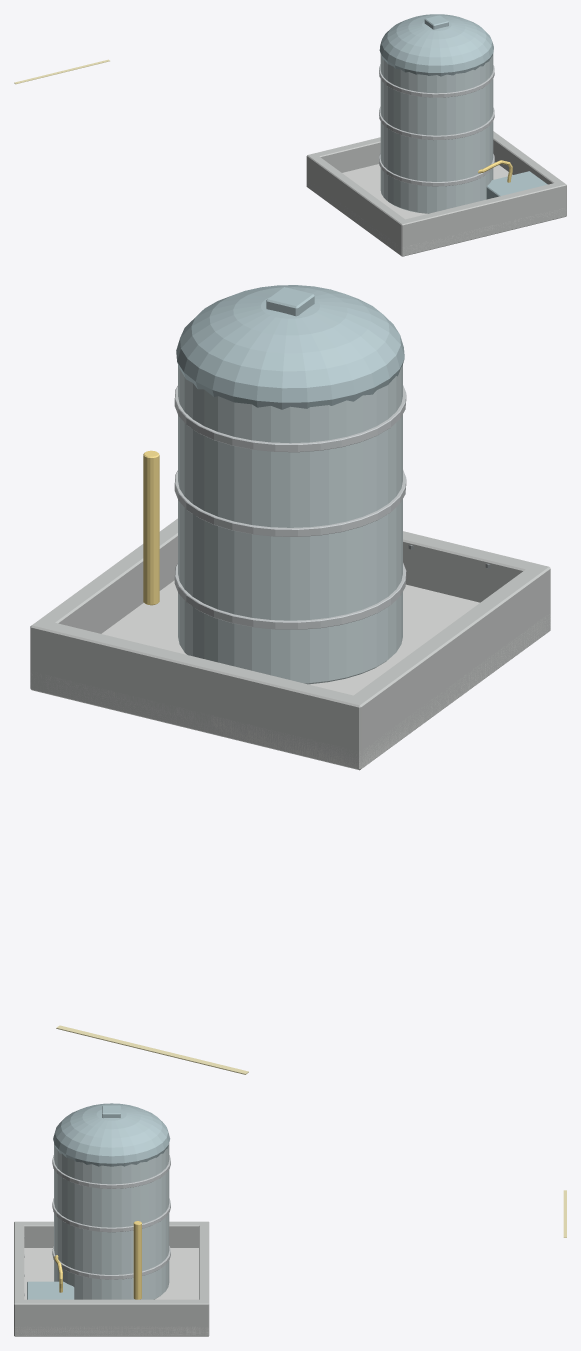
3 renders of one model, top to bottom at view 1: azimuth 30°, elevation 25°; view 2: azimuth 150°, elevation 25°; view 3: azimuth 270°, elevation 25°, orthographic. The views are drawn at different scales.
Visible parts, largest first — view 1: render-batch-4, render-batch-2, render-batch-1, render-batch-3, render-batch-5; view 2: render-batch-4, render-batch-2, render-batch-1, render-batch-5, render-batch-3, render-batch-7; view 3: render-batch-4, render-batch-2, render-batch-1, render-batch-5, render-batch-3, render-batch-7.
Part boxes in pixels (x1,y1,x2,y2): render-batch-4: (380, 54, 493, 213); render-batch-2: (306, 131, 566, 256); render-batch-1: (379, 14, 547, 199); render-batch-3: (379, 64, 494, 186); render-batch-5: (307, 162, 562, 253); render-batch-4: (178, 365, 402, 684); render-batch-2: (30, 518, 550, 770); render-batch-1: (176, 285, 404, 409); render-batch-5: (30, 580, 550, 768); render-batch-3: (174, 385, 406, 629); render-batch-7: (143, 450, 159, 605); render-batch-4: (54, 1143, 169, 1299); render-batch-2: (14, 1221, 209, 1336); render-batch-1: (27, 1103, 170, 1299); render-batch-5: (14, 1248, 208, 1335); render-batch-3: (52, 1155, 170, 1279); render-batch-7: (54, 1221, 141, 1299).
Bounding box in the file's own units: 9.57 × 5.89 × 15.85.
